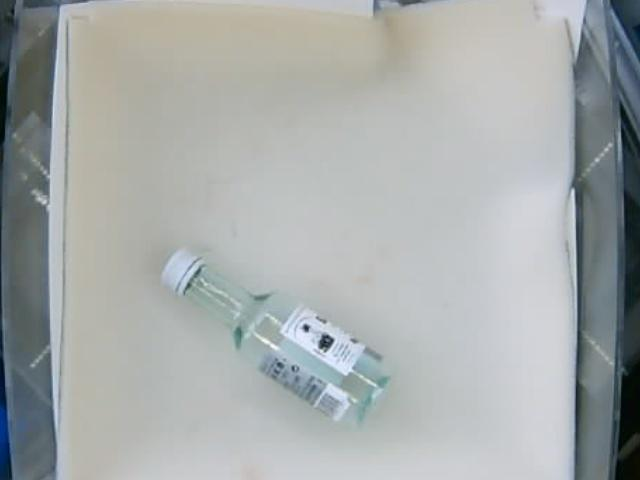Bottle: (162, 248, 388, 424)
